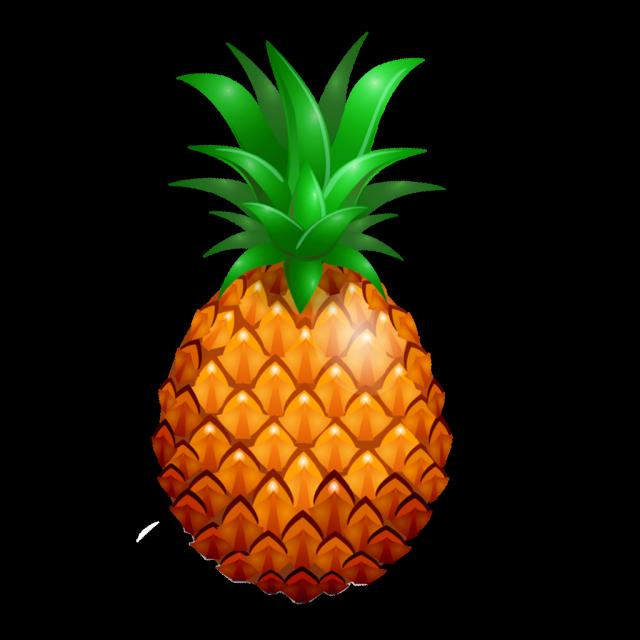Pineapple: (151, 167, 458, 607)
